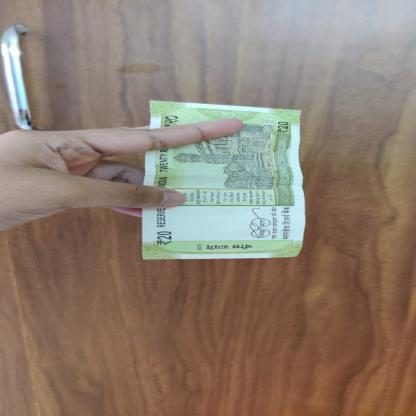New20Back: (142, 100, 304, 260)
